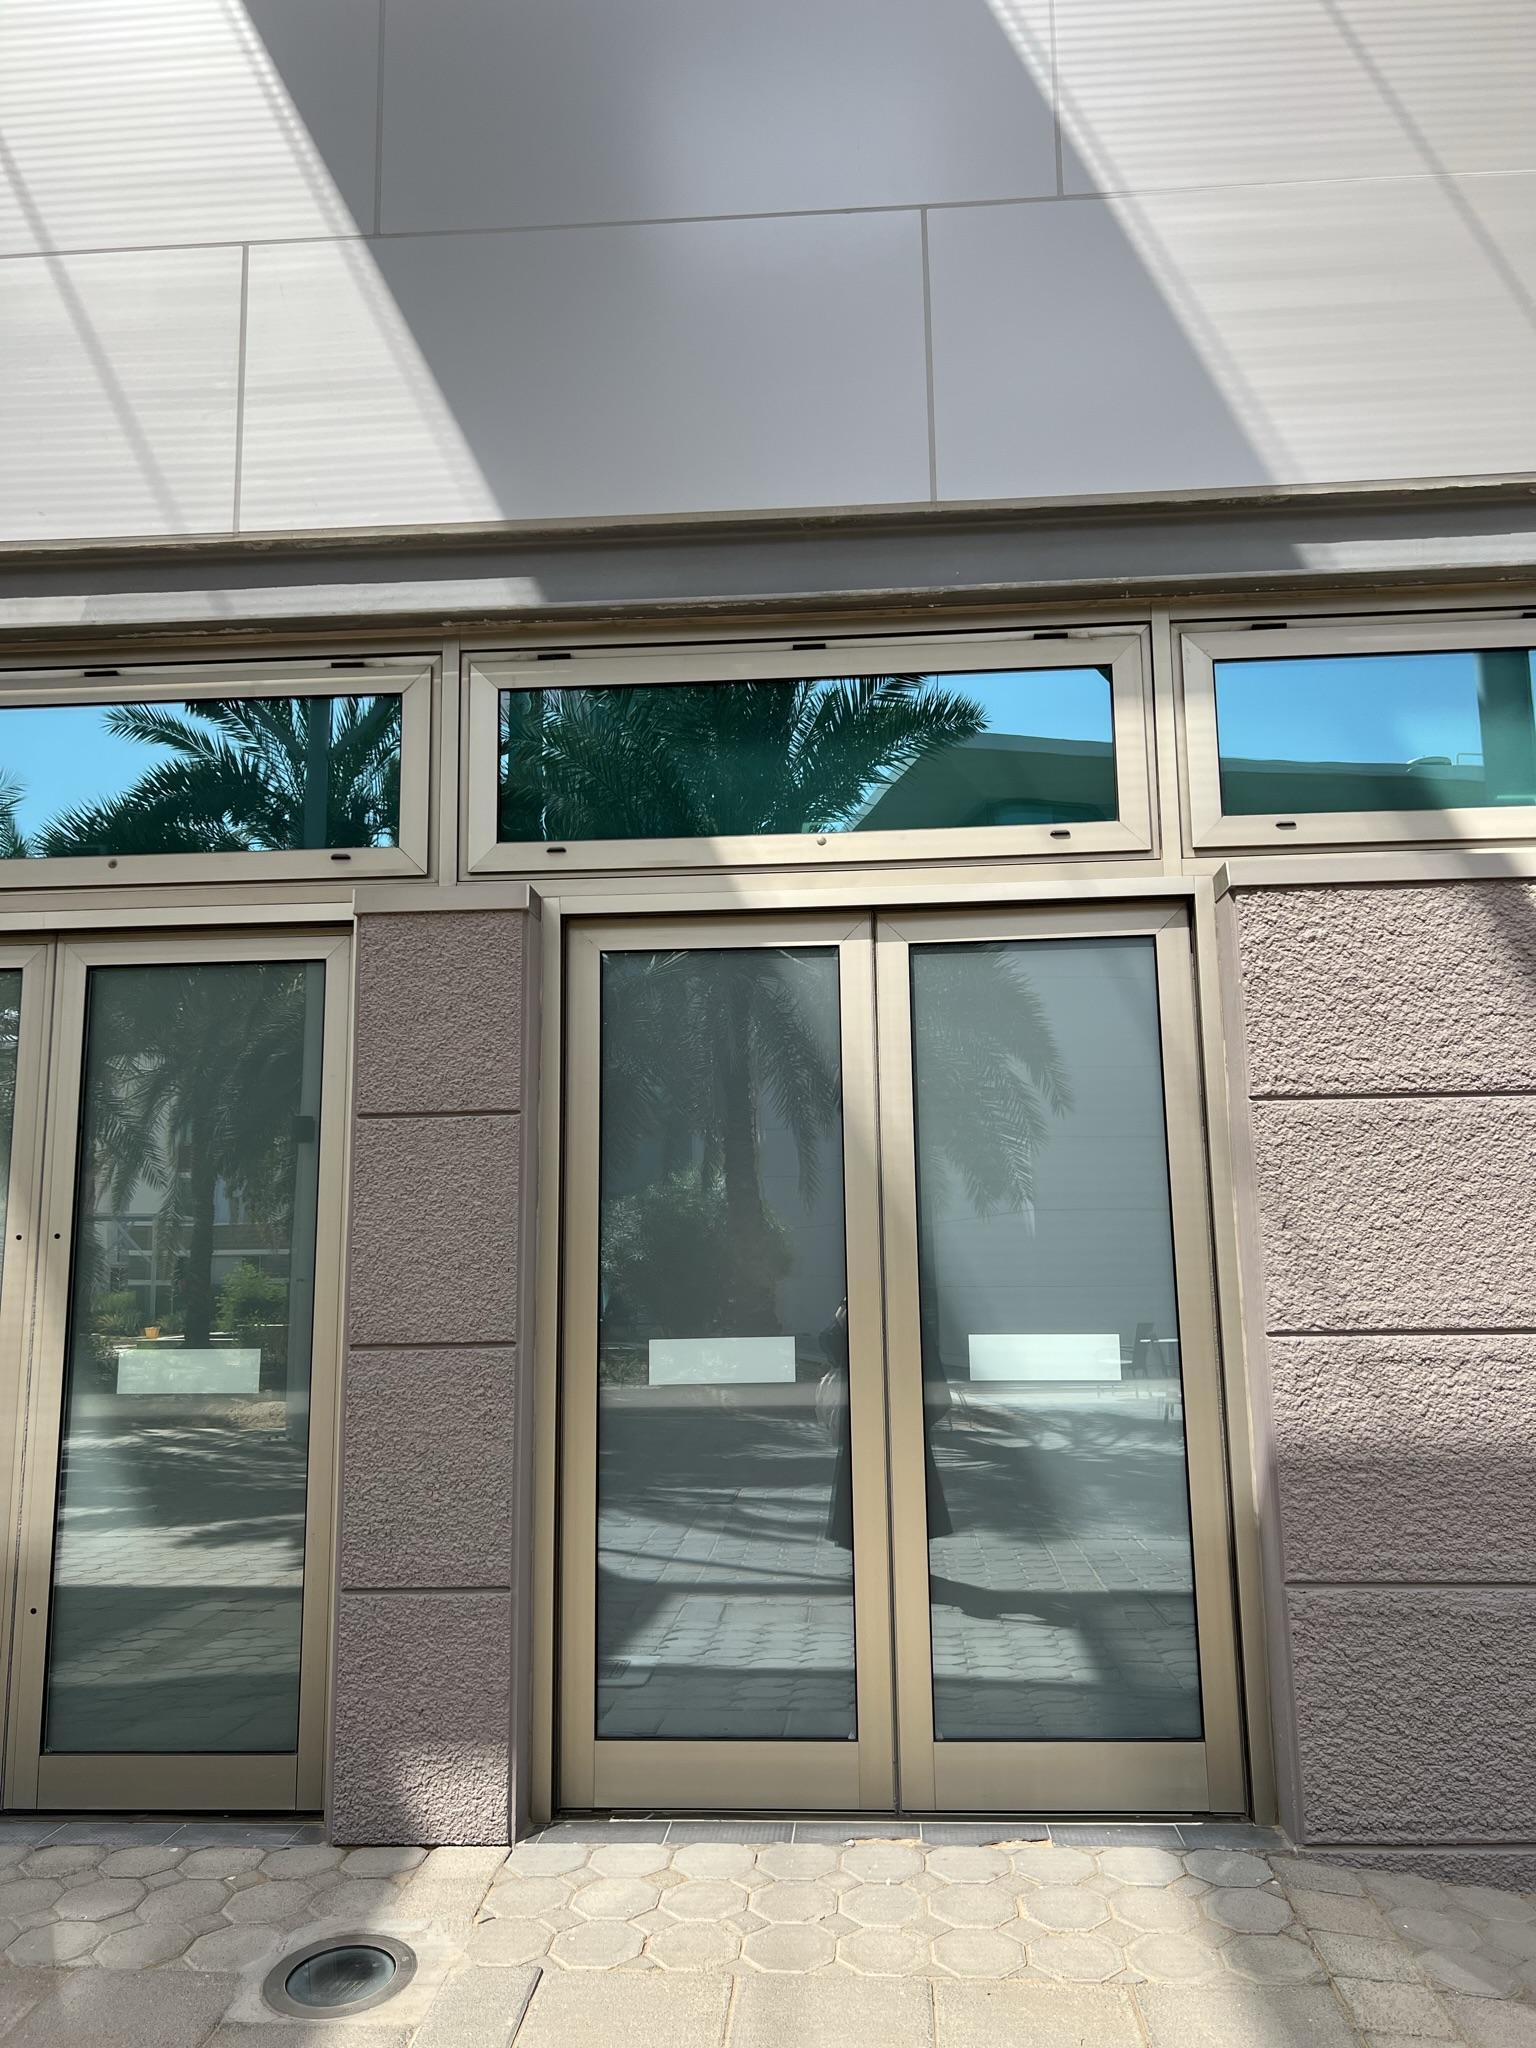door: (887, 901, 1246, 1825), (566, 906, 908, 1809), (61, 926, 316, 1787)
